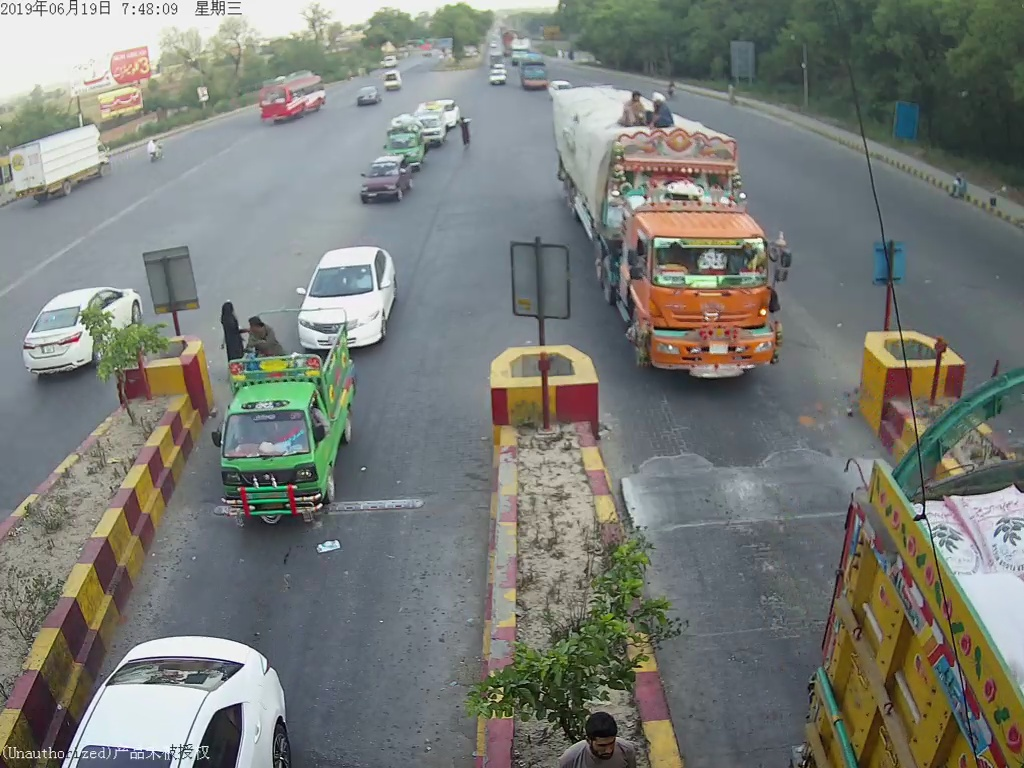Cat-1: (207, 306, 358, 529), (293, 237, 400, 346), (357, 153, 416, 204)
Cat-5: (564, 84, 794, 377)
